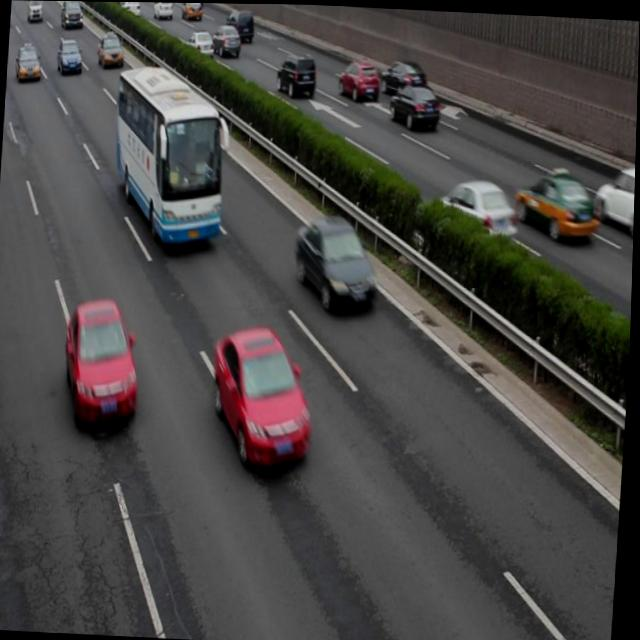car: (210, 324, 320, 468), (64, 296, 145, 426), (292, 213, 379, 309), (514, 166, 597, 239), (436, 176, 521, 246), (591, 163, 636, 232), (388, 81, 440, 130), (337, 57, 379, 101), (275, 53, 316, 98), (379, 58, 426, 97), (210, 21, 241, 58), (97, 31, 125, 69), (56, 38, 83, 75), (185, 29, 215, 62), (15, 43, 41, 81), (59, 1, 84, 30), (180, 2, 201, 20), (119, 1, 141, 17), (153, 2, 173, 18), (182, 2, 202, 5)
truck: (225, 8, 254, 43)
van: (110, 64, 233, 245)
